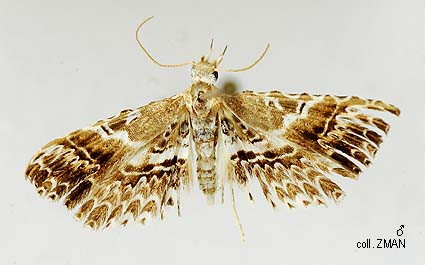Alucitidae: (15, 11, 404, 239)
moth: (17, 13, 406, 241)
